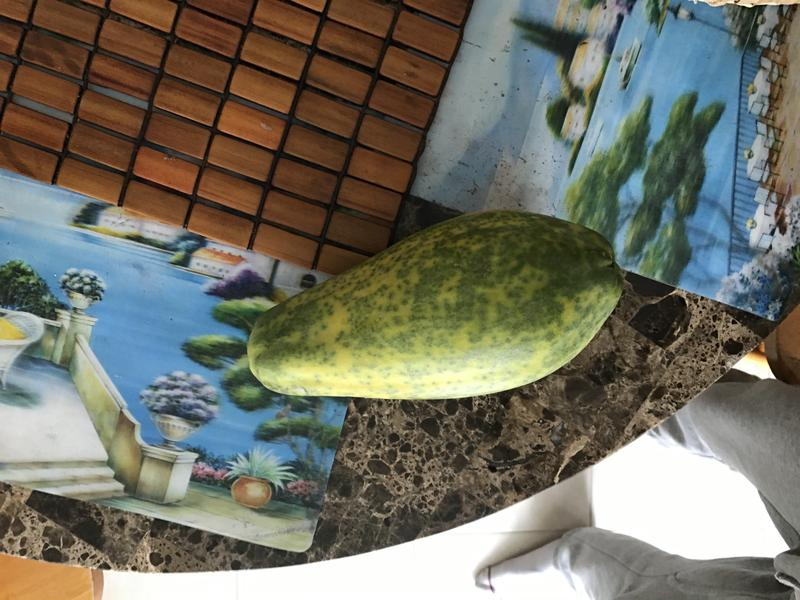papaya: (236, 205, 628, 409)
